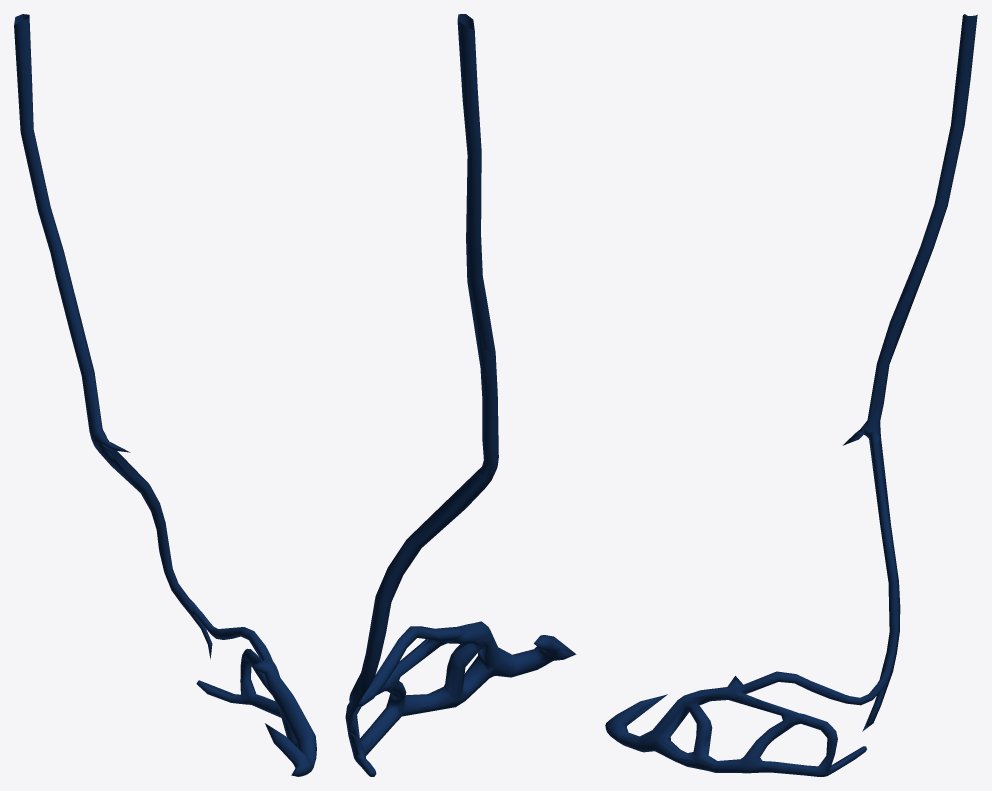
File: LB  vena digitales lateralis.fbx
3 views of the same model, side by side, from view 1: azimuth 30°, elevation 25°; view 2: azimuth 150°, elevation 25°; view 3: azimuth 270°, elevation 25° (orthographic). The views are drawn at different scales.
Parts seen in each view (by area): view 1: LB vena digitales lateralis, LB vena digitales lateralis low; view 2: LB vena digitales lateralis, LB vena digitales lateralis low; view 3: LB vena digitales lateralis, LB vena digitales lateralis low.
Boxes of the visible parts, x1,y1,x2,y2 form: LB vena digitales lateralis: (14,15,316,776); LB vena digitales lateralis low: (14,14,315,774); LB vena digitales lateralis: (345,14,575,776); LB vena digitales lateralis low: (346,14,575,772); LB vena digitales lateralis: (605,14,977,776); LB vena digitales lateralis low: (608,22,962,773).
Size of the model in its own units: 3.23 by 11.9 by 5.84.
